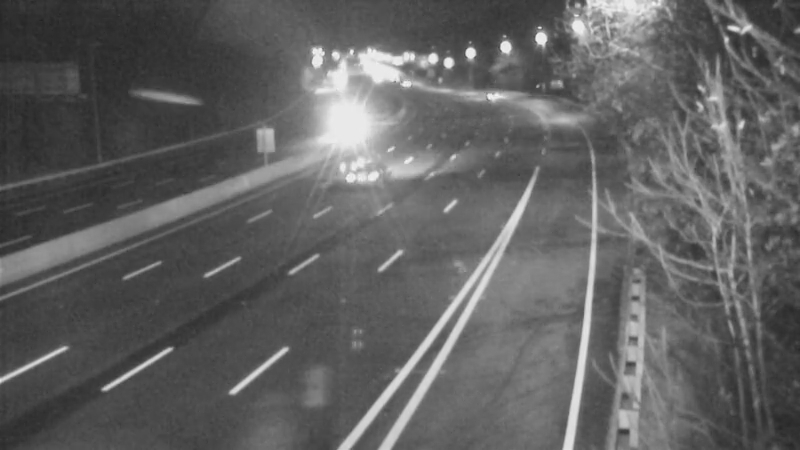vehicle: (326, 131, 406, 211), (465, 72, 515, 122), (309, 104, 359, 154)
